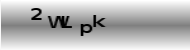2: (30, 7, 43, 21)
L: (61, 15, 74, 28)
W: (47, 15, 69, 28)
k: (92, 14, 108, 28)
p: (79, 23, 93, 38)
